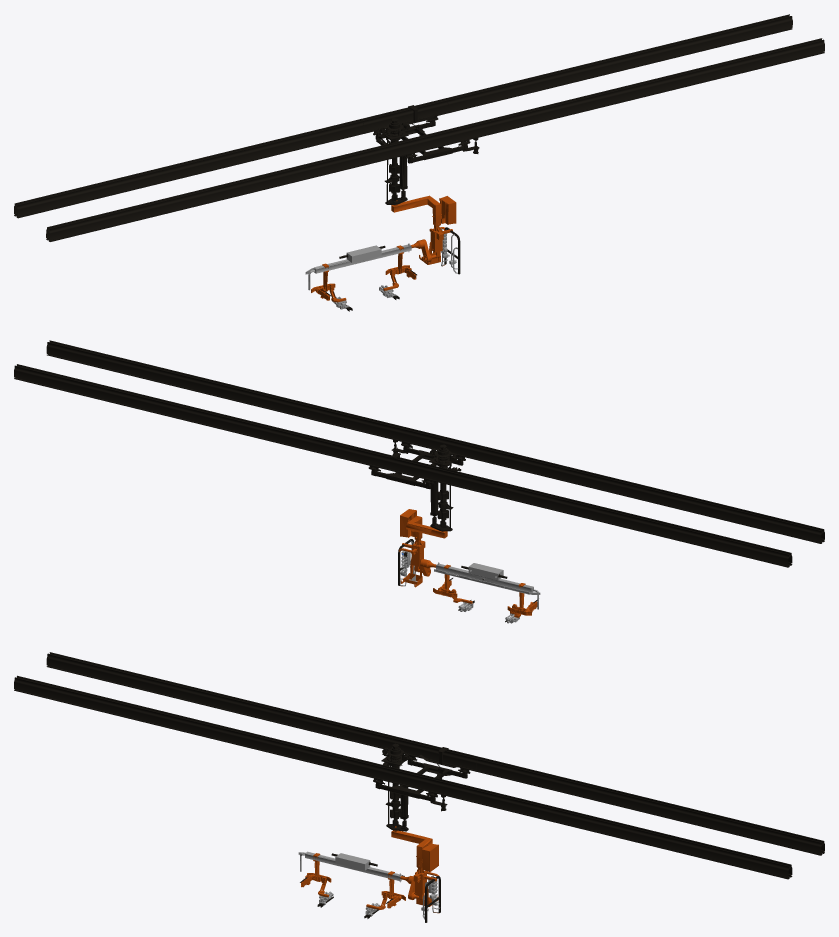
The model's file is RigFBX_final.fbx.
The picture shows the model from 3 angles, top to bottom: view 1: azimuth 30°, elevation 25°; view 2: azimuth 150°, elevation 25°; view 3: azimuth 330°, elevation 25°; orthographic projection.
Parts seen in each view (by area): view 1: Rod, pasted__polySurface4310.001, Top, pasted__polySurface355.412, pasted__pasted__polySurface4172.001, middle, pasted__polySurface4086.001; view 2: pasted__polySurface4310.001, Rod, Top, pasted__pasted__polySurface4172.001, pasted__polySurface355.412, pasted__polySurface4086.001, middle; view 3: Rod, pasted__polySurface4310.001, pasted__polySurface355.412, Top, pasted__pasted__polySurface4172.001, middle, pasted__polySurface4086.001.
Boxes of the visible parts, bbox=[...] form: Rod: bbox=[46, 38, 824, 241]; pasted__polySurface4310.001: bbox=[14, 14, 792, 218]; Top: bbox=[376, 118, 410, 204]; pasted__polySurface355.412: bbox=[373, 105, 479, 163]; pasted__pasted__polySurface4172.001: bbox=[305, 243, 411, 290]; middle: bbox=[391, 195, 456, 226]; pasted__polySurface4086.001: bbox=[411, 216, 458, 273]; pasted__polySurface4310.001: bbox=[14, 364, 792, 567]; Rod: bbox=[46, 340, 824, 543]; Top: bbox=[429, 444, 461, 531]; pasted__pasted__polySurface4172.001: bbox=[434, 562, 540, 609]; pasted__polySurface355.412: bbox=[368, 440, 465, 489]; pasted__polySurface4086.001: bbox=[398, 539, 436, 587]; middle: bbox=[400, 509, 447, 539]; Rod: bbox=[14, 675, 792, 879]; pasted__polySurface4310.001: bbox=[46, 652, 824, 855]; pasted__polySurface355.412: bbox=[373, 747, 470, 811]; Top: bbox=[381, 743, 409, 831]; pasted__pasted__polySurface4172.001: bbox=[298, 851, 404, 882]; middle: bbox=[391, 826, 438, 872]; pasted__polySurface4086.001: bbox=[400, 868, 439, 919].
Size of the model in its own units: 13.03 by 2.67 by 1.07.
